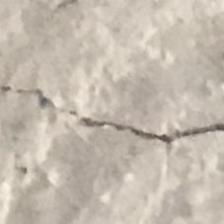Crack: (5, 81, 224, 156)
